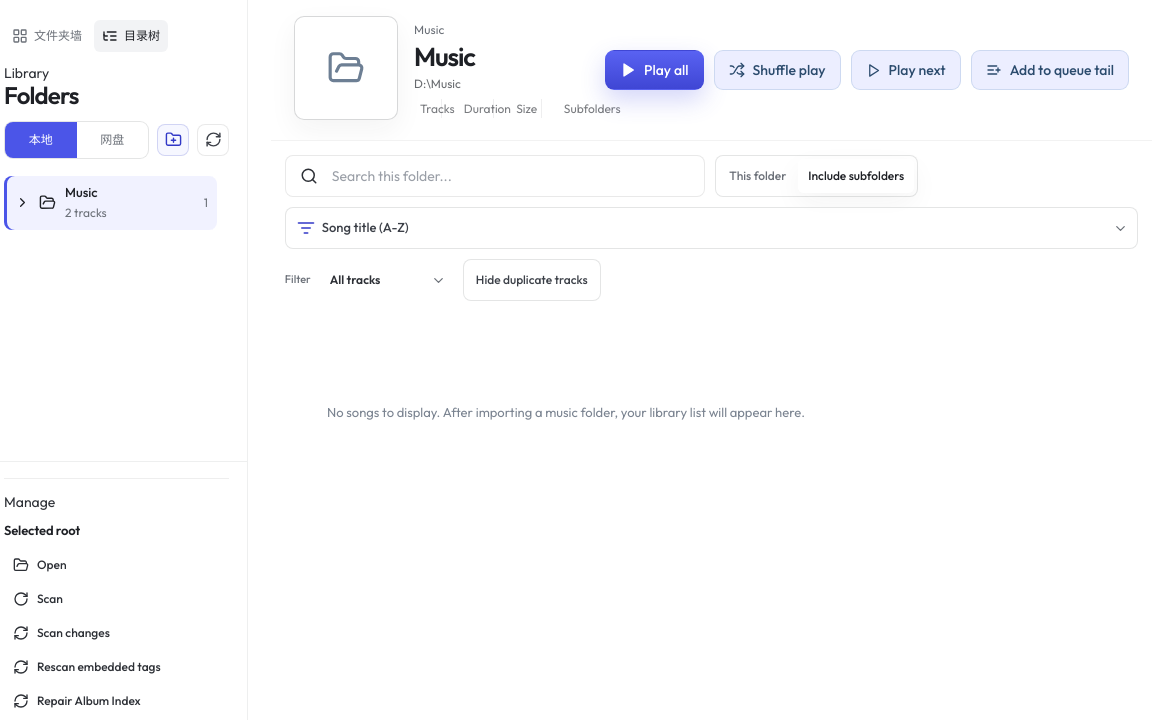
Test: FoldersPage › repairs the global album index from the local folder management panel
Expected: the heading "Folders" is shown, [4,80,79,110]
Click the button "Repair Album Index" at [112, 701], box [4,685,219,717]
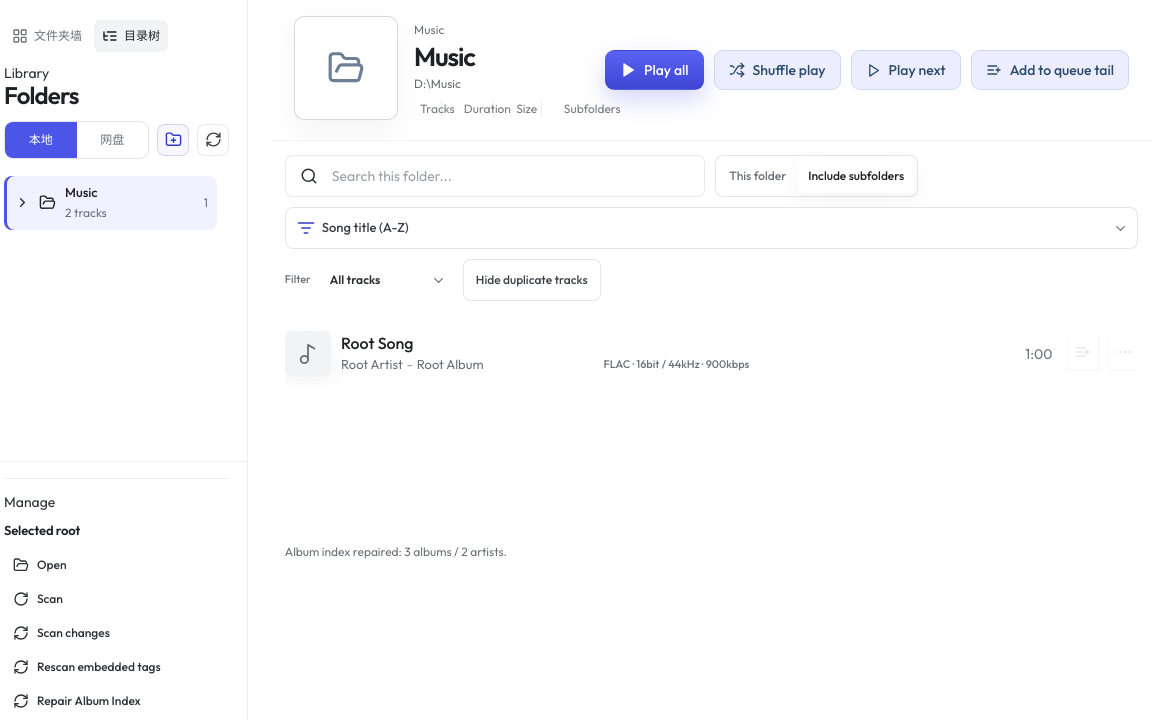
Expected: the text "Album index repaired: 3 albums / 2 artists." is shown, [285,544,507,561]
